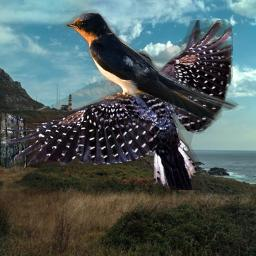Swallow: (61, 7, 239, 121)
Woodpecker: (1, 20, 233, 190)
